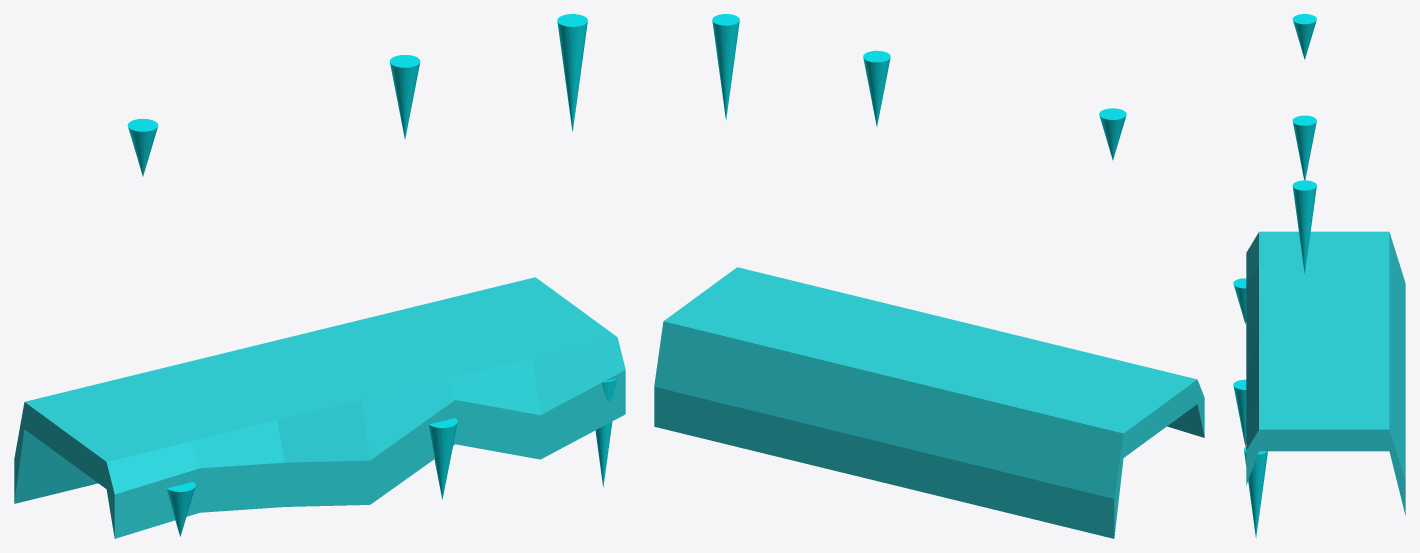
File: glace.fbx
3 views of the same model, side by side, from view 1: azimuth 30°, elevation 25°; view 2: azimuth 150°, elevation 25°; view 3: azimuth 270°, elevation 25° (orthographic). The views are drawn at different scales.
Visible parts, largest first — view 1: Neige, Ice.002, Ice.001, Ice.004, Ice, Ice.003, Ice.005; view 2: Neige, Ice.002, Ice.001, Ice; view 3: Neige, Ice.002, Ice.005, Ice.001, Ice, Ice.004, Ice.003.
Part boxes in pixels (x1,y1,x2,y2): Neige: [14, 277, 625, 538]; Ice.002: [557, 14, 587, 131]; Ice.001: [389, 55, 420, 139]; Ice.004: [428, 418, 457, 499]; Ice: [127, 118, 158, 176]; Ice.003: [166, 482, 195, 536]; Ice.005: [595, 378, 617, 486]; Neige: [654, 267, 1204, 538]; Ice.002: [712, 14, 739, 120]; Ice.001: [863, 50, 890, 126]; Ice: [1099, 108, 1126, 160]; Neige: [1246, 231, 1405, 515]; Ice.002: [1292, 180, 1316, 273]; Ice.005: [1244, 447, 1267, 537]; Ice.001: [1292, 115, 1316, 180]; Ice: [1292, 14, 1316, 59]; Ice.004: [1233, 379, 1246, 446]; Ice.003: [1233, 278, 1246, 323].
Bounding box in the file's own units: 186 × 155 × 68.6.
